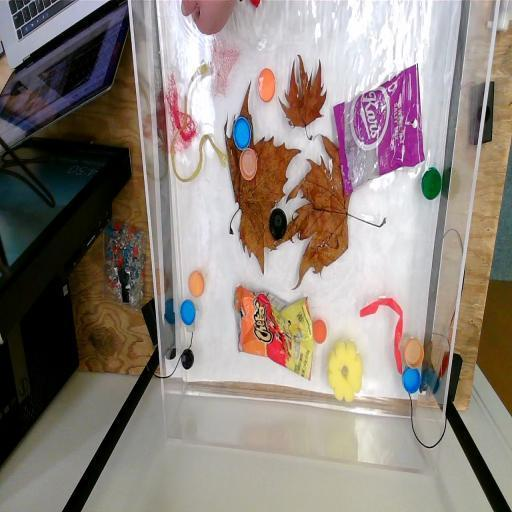Bottle Cap: (256, 66, 278, 106), (421, 166, 444, 204), (232, 114, 252, 150), (187, 266, 207, 300), (238, 148, 259, 180), (178, 298, 198, 330), (404, 336, 424, 368), (269, 206, 286, 242), (402, 366, 421, 396), (312, 314, 330, 345), (180, 348, 196, 370)
Cone Cap: (238, 0, 264, 6)
Leaf: (224, 92, 298, 276), (294, 147, 384, 282), (282, 47, 328, 145)
Netting: (162, 72, 198, 154), (204, 33, 242, 99)
Plastic Bag: (334, 68, 426, 184), (230, 282, 316, 380)
Plastic Strand: (170, 60, 230, 186), (358, 295, 406, 375)
Sponge: (326, 336, 364, 407)
